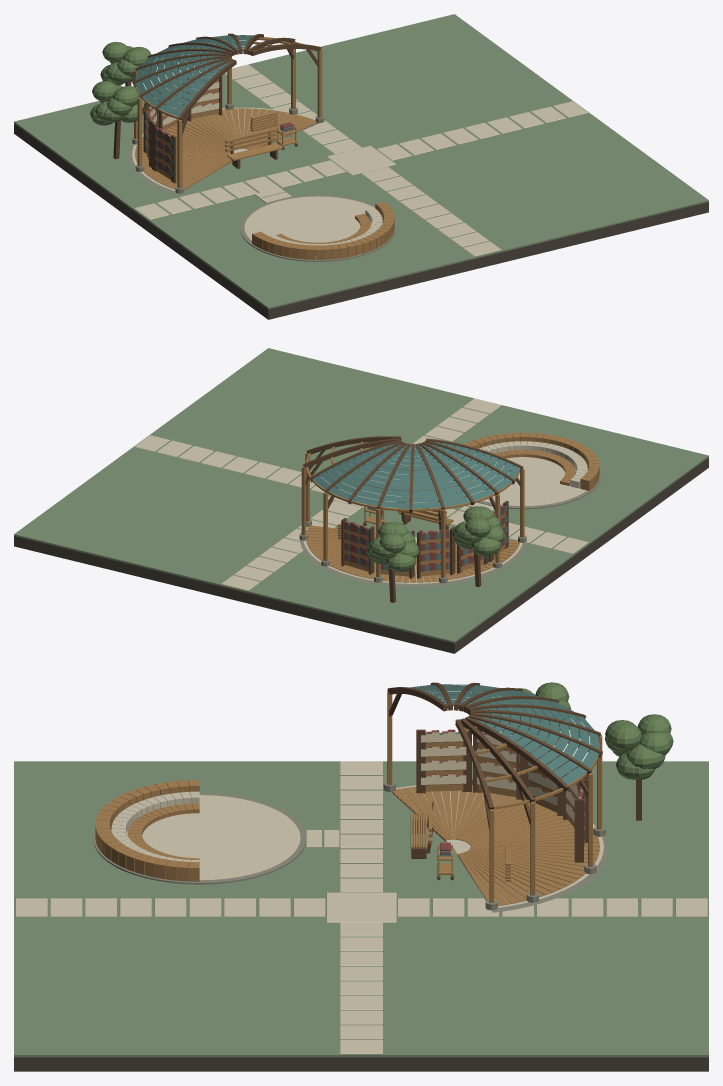
File: next_chapter-scene.glb
3 renders of one model, top to bottom at view 1: azimuth 30°, elevation 25°; view 2: azimuth 150°, elevation 25°; view 3: azimuth 270°, elevation 25°, orthographic. The views are drawn at different scales.
Visible parts, largest first — view 1: runtime_Chapter / sage lawn, runtime_Chapter / parchment limestone, runtime_Chapter / warm oak, runtime_Chapter / dark earth, runtime_Chapter / endgrain, runtime_Chapter / muted jade roof, runtime_Chapter / olive foliage, runtime_Chapter / recessed stone, runtime_Chapter / oxblood bookcloth, runtime_Chapter / paper edges; view 2: runtime_Chapter / sage lawn, runtime_Chapter / parchment limestone, runtime_Chapter / warm oak, runtime_Chapter / muted jade roof, runtime_Chapter / dark earth, runtime_Chapter / endgrain, runtime_Chapter / olive foliage, runtime_Chapter / recessed stone, runtime_Chapter / oxblood bookcloth; view 3: runtime_Chapter / sage lawn, runtime_Chapter / parchment limestone, runtime_Chapter / warm oak, runtime_Chapter / dark earth, runtime_Chapter / endgrain, runtime_Chapter / muted jade roof, runtime_Chapter / olive foliage, runtime_Chapter / paper edges, runtime_Chapter / recessed stone, runtime_Chapter / oxblood bookcloth.
Boxes of the visible parts, x1,y1,x2,y2 form: runtime_Chapter / sage lawn: [14, 14, 708, 308]; runtime_Chapter / parchment limestone: [132, 64, 588, 258]; runtime_Chapter / warm oak: [134, 36, 394, 259]; runtime_Chapter / dark earth: [14, 123, 708, 319]; runtime_Chapter / endgrain: [113, 33, 321, 183]; runtime_Chapter / muted jade roof: [135, 35, 294, 176]; runtime_Chapter / olive foliage: [90, 42, 151, 125]; runtime_Chapter / recessed stone: [129, 102, 395, 261]; runtime_Chapter / oxblood bookcloth: [145, 74, 294, 173]; runtime_Chapter / paper edges: [149, 73, 219, 135]; runtime_Chapter / sage lawn: [14, 348, 708, 642]; runtime_Chapter / parchment limestone: [134, 398, 588, 590]; runtime_Chapter / warm oak: [301, 432, 599, 582]; runtime_Chapter / muted jade roof: [312, 441, 520, 571]; runtime_Chapter / dark earth: [14, 457, 708, 653]; runtime_Chapter / endgrain: [303, 436, 523, 602]; runtime_Chapter / olive foliage: [367, 506, 504, 571]; runtime_Chapter / recessed stone: [299, 470, 600, 586]; runtime_Chapter / oxblood bookcloth: [344, 504, 505, 571]; runtime_Chapter / sage lawn: [14, 761, 708, 1056]; runtime_Chapter / parchment limestone: [15, 761, 707, 1054]; runtime_Chapter / warm oak: [95, 685, 602, 905]; runtime_Chapter / dark earth: [14, 1057, 708, 1071]; runtime_Chapter / endgrain: [387, 682, 641, 880]; runtime_Chapter / muted jade roof: [409, 684, 599, 856]; runtime_Chapter / olive foliage: [515, 682, 673, 779]; runtime_Chapter / paper edges: [421, 731, 583, 821]; runtime_Chapter / recessed stone: [93, 778, 607, 912]; runtime_Chapter / oxblood bookcloth: [426, 729, 585, 854].
Size of the model in its own units: 25.8 by 6.37 by 25.8.
